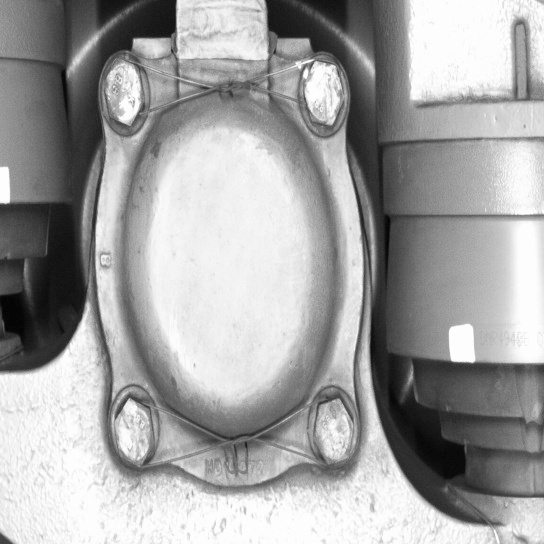IronWire: (96, 49, 348, 138), (106, 391, 360, 478)
Screw: (106, 390, 159, 479), (307, 389, 360, 474), (295, 53, 348, 137), (96, 53, 148, 137)
